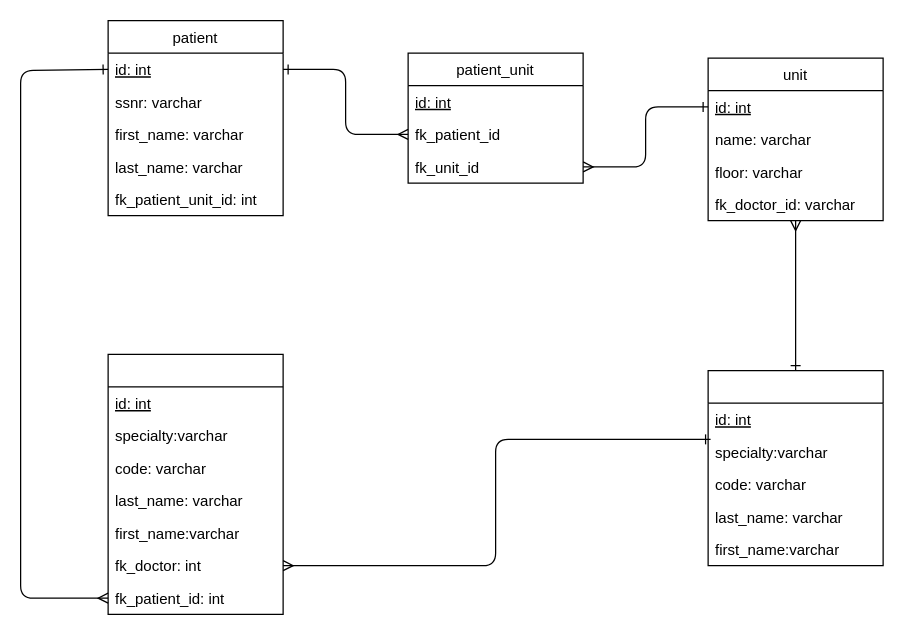
Image size: 904x635. Some labels were removed from this diagram. The box of each missing label's shape, as (x1, y1, x2, y2) in pixels:
doctor: (707, 369, 883, 566)
intervention: (107, 353, 283, 614)
